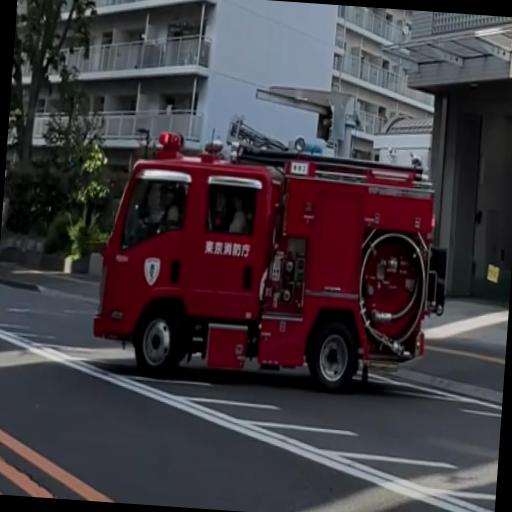fire truck: (94, 132, 447, 390)
